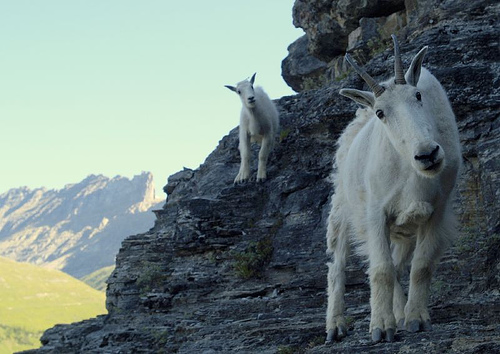goat: (323, 33, 463, 344), (225, 72, 280, 186)
